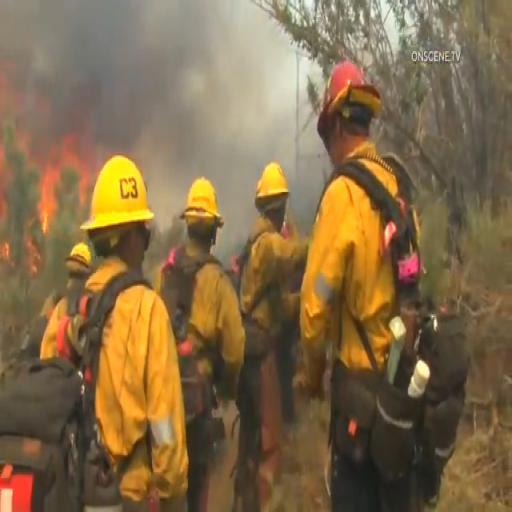smoke: (50, 0, 206, 136)
